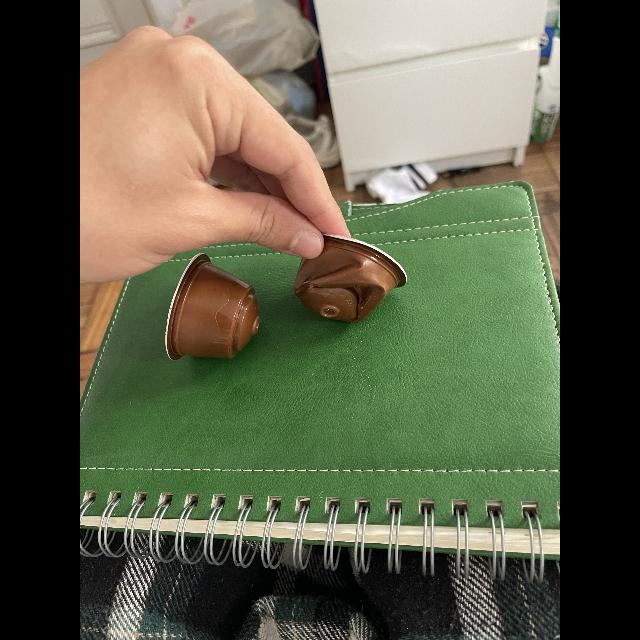damaged_capsule: (286, 229, 419, 331)
intact_capsule: (158, 256, 274, 364)
